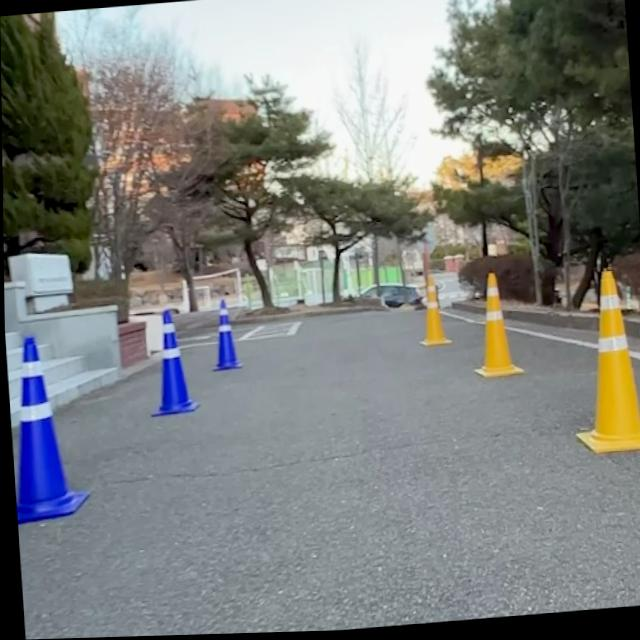b_rub: (15, 336, 87, 524), (150, 311, 197, 416), (213, 300, 241, 372)
y_rub: (577, 274, 640, 458), (475, 276, 523, 382), (421, 278, 450, 347)
